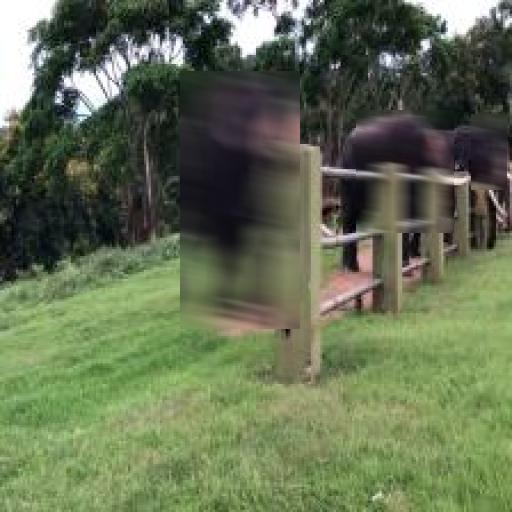Elephant: (180, 71, 300, 329), (356, 110, 454, 233), (471, 114, 507, 190)
